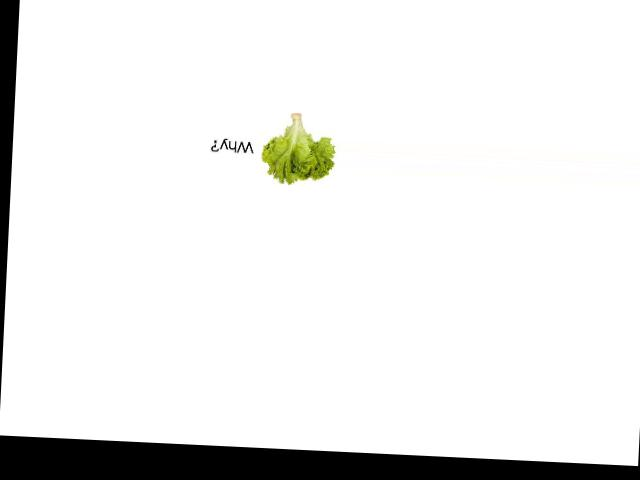lettuce: (253, 110, 339, 187)
